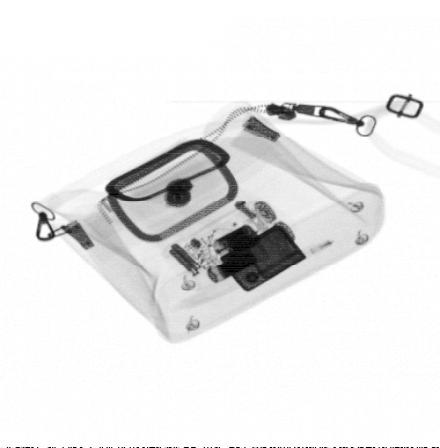Lighter: (220, 225, 307, 293)
